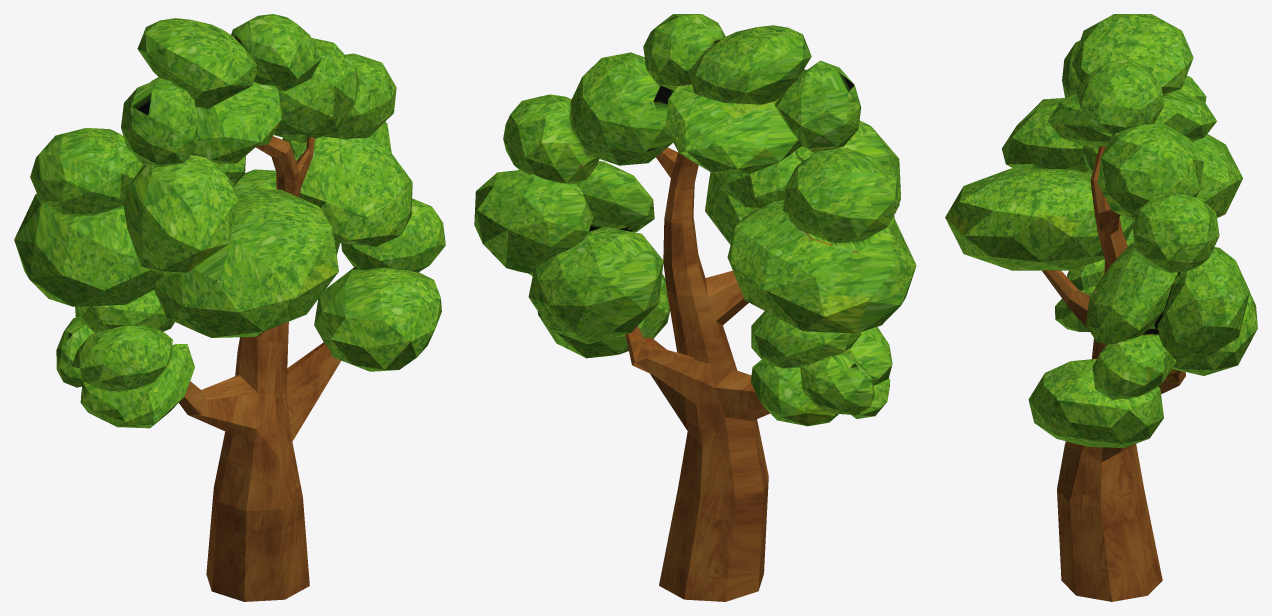
The model's file is tree1.fbx.
The picture shows the model from 3 angles, left to right: view 1: azimuth 30°, elevation 25°; view 2: azimuth 150°, elevation 25°; view 3: azimuth 270°, elevation 25°; orthographic projection. The views are drawn at different scales.
Parts seen in each view (by area): view 1: Oak; view 2: Oak; view 3: Oak.
Boxes of the visible parts, box(x1,y1,x2,y2) form: Oak: box(14, 14, 445, 601); Oak: box(474, 14, 916, 601); Oak: box(945, 14, 1257, 601).
Size of the model in its own units: 396 by 531 by 284.
